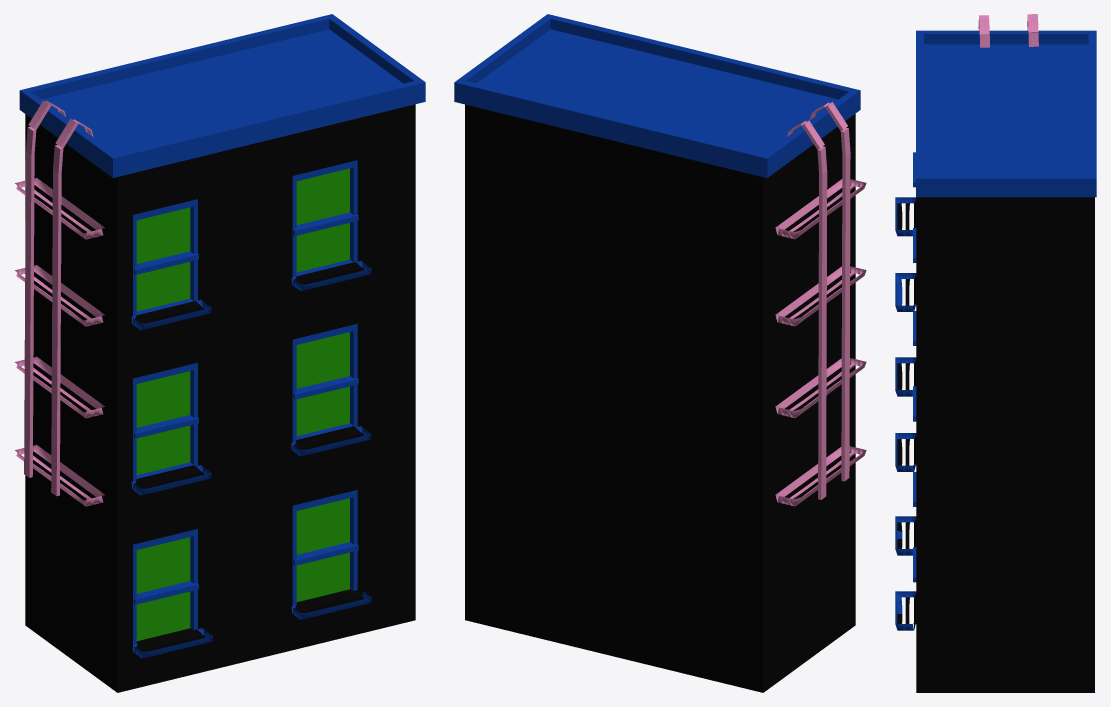
Rendered from Apartment_KW.fbx.
3 renders of one model, left to right at view 1: azimuth 30°, elevation 25°; view 2: azimuth 150°, elevation 25°; view 3: azimuth 270°, elevation 25°, orthographic. The views are drawn at different scales.
Parts seen in each view (by area): view 1: Apartment_KW; view 2: Apartment_KW; view 3: Apartment_KW.
Part boxes in pixels (left/top/right/bottom): Apartment_KW: left=14, top=14, right=425, bottom=692; Apartment_KW: left=454, top=14, right=866, bottom=692; Apartment_KW: left=895, top=14, right=1096, bottom=692.
Size of the model in its own units: 968 by 1507 by 517.
